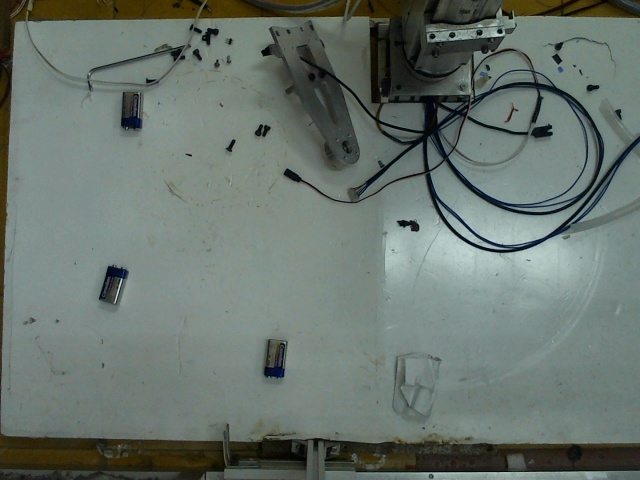battery: (257, 333, 290, 381), (115, 87, 148, 132), (96, 263, 128, 309)
